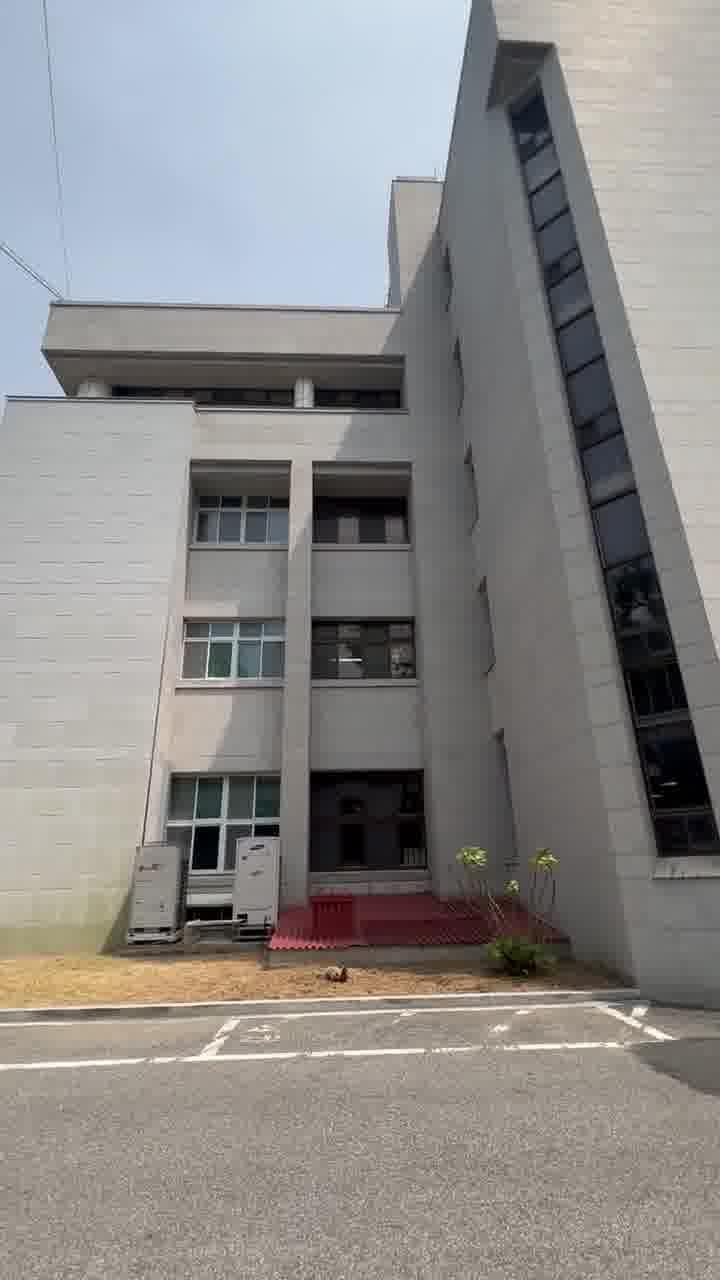building: (24, 18, 720, 1002)
